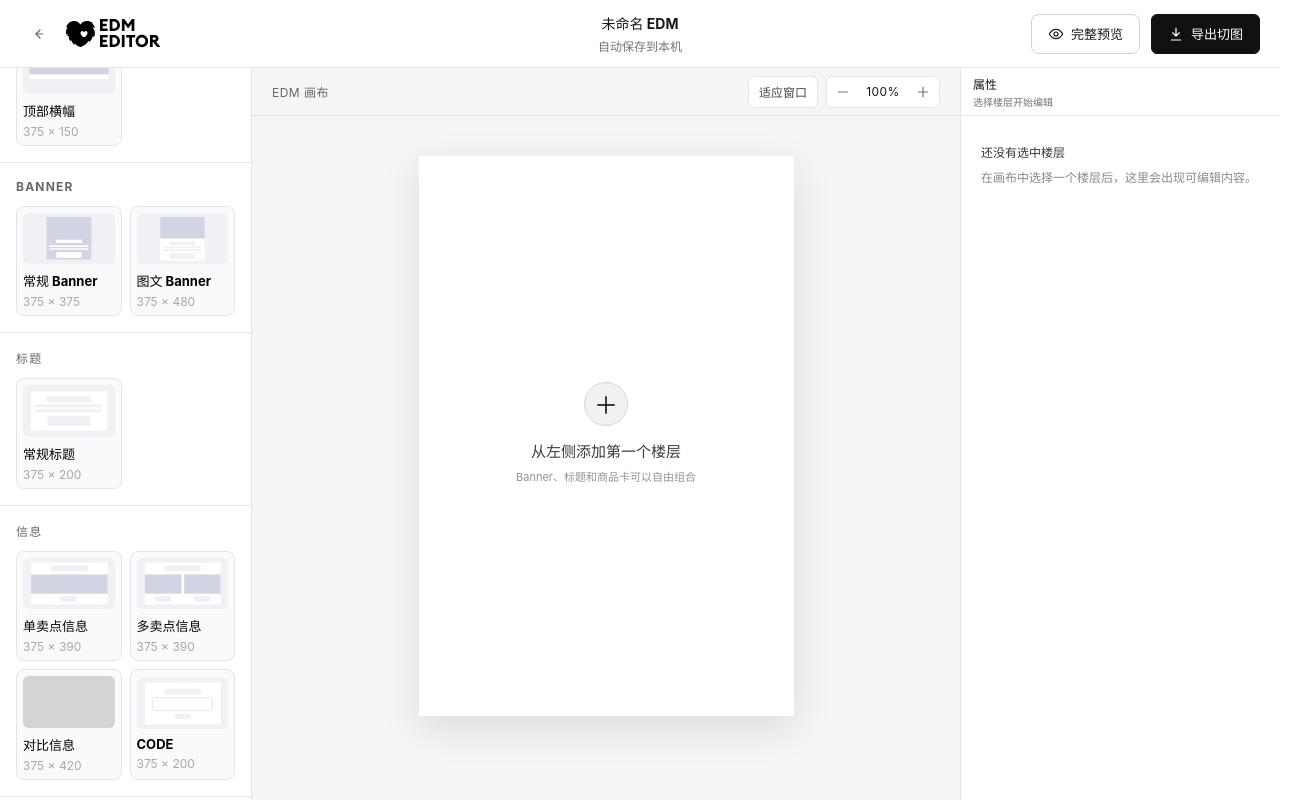
添加、编辑并通过 Delete 删除楼层
(page scrolled)
Check: the picture named "EDM Editor" is shown, box [66, 19, 161, 48]
Click the button with aria-label "添加 常规标题" at (69, 434), box [16, 378, 122, 489]
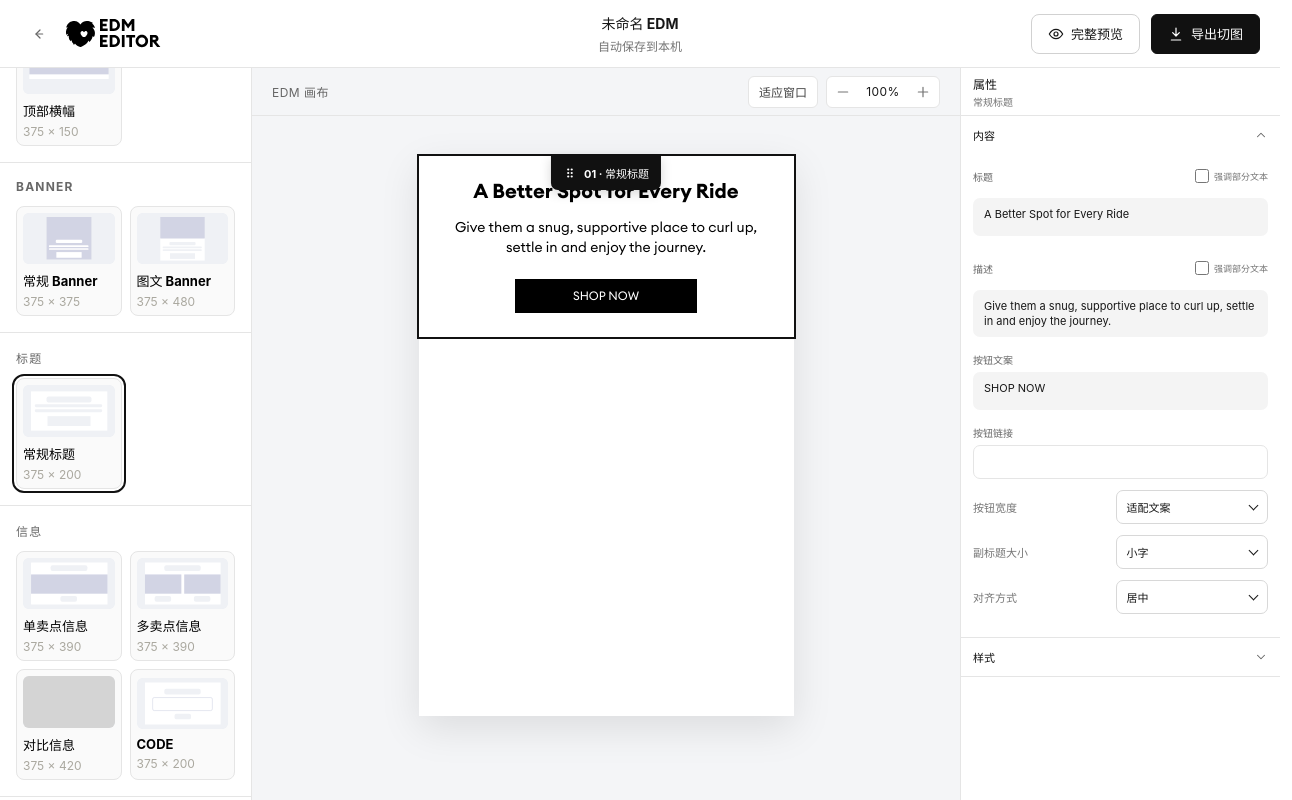
Replace the text in the text box named "标题" with "Summer Picks" at (1120, 217), box [973, 198, 1268, 236]
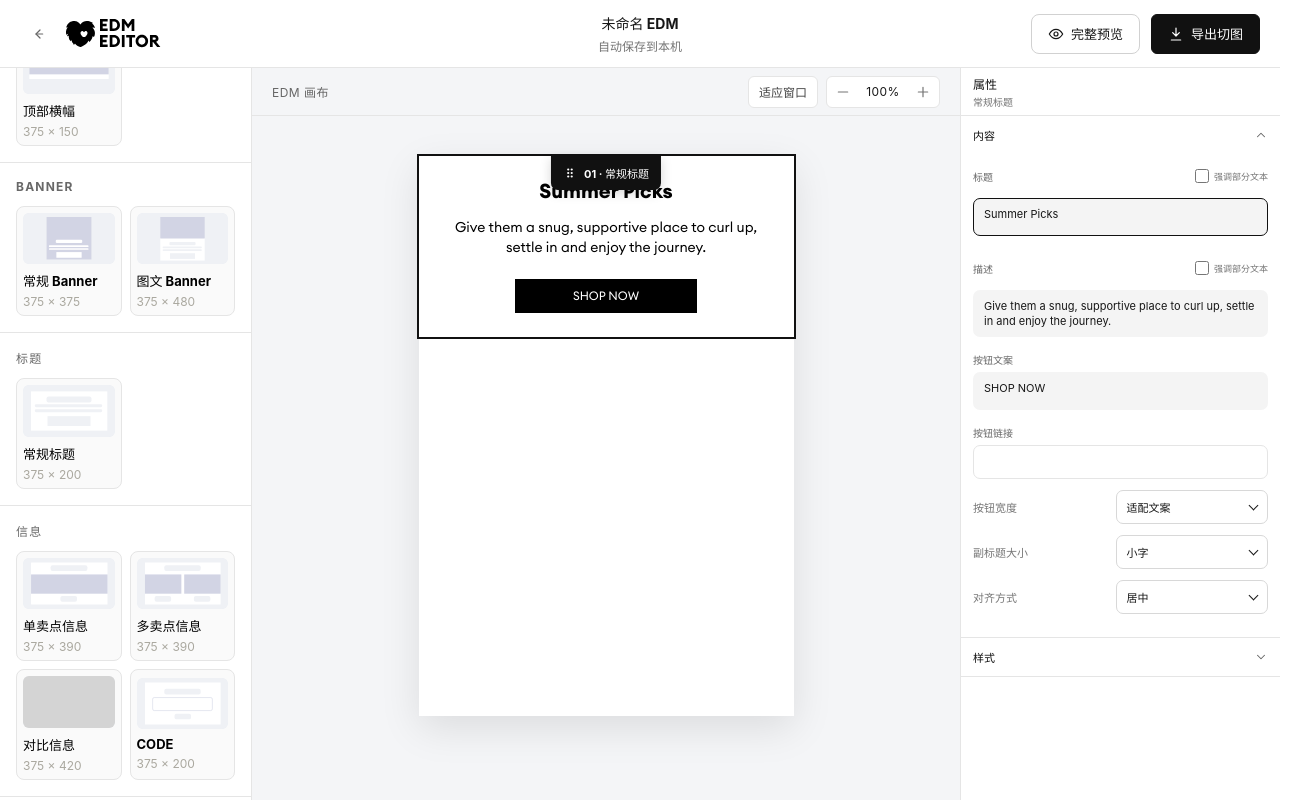
Check: the number of checkboxes labelled "强调部分文本" is 2
Check: the heading "Summer Picks" is shown, box [539, 182, 673, 202]
Click the 1st checkbox labelled "强调部分文本" at (1202, 176), box [1195, 159, 1209, 193]
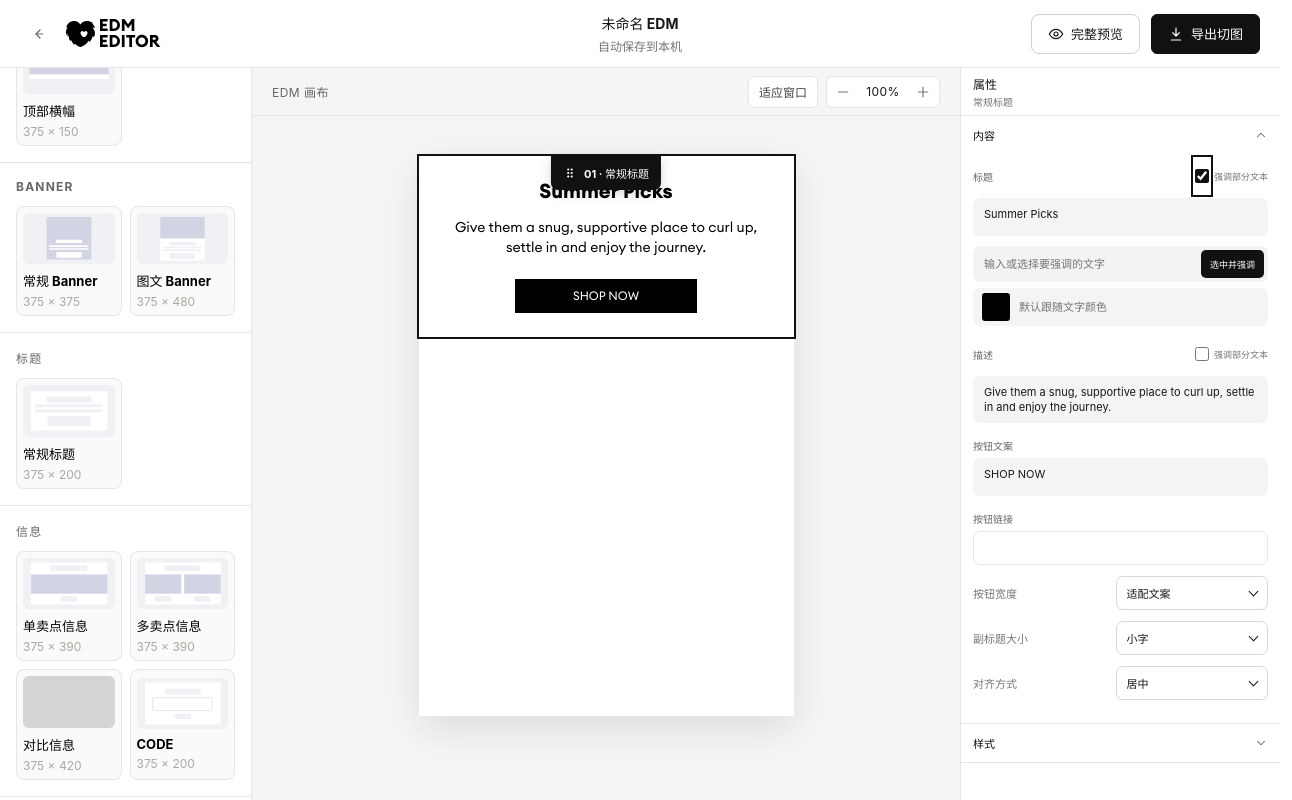
Click the button "选中并强调" at (1232, 264), box [1201, 250, 1264, 278]
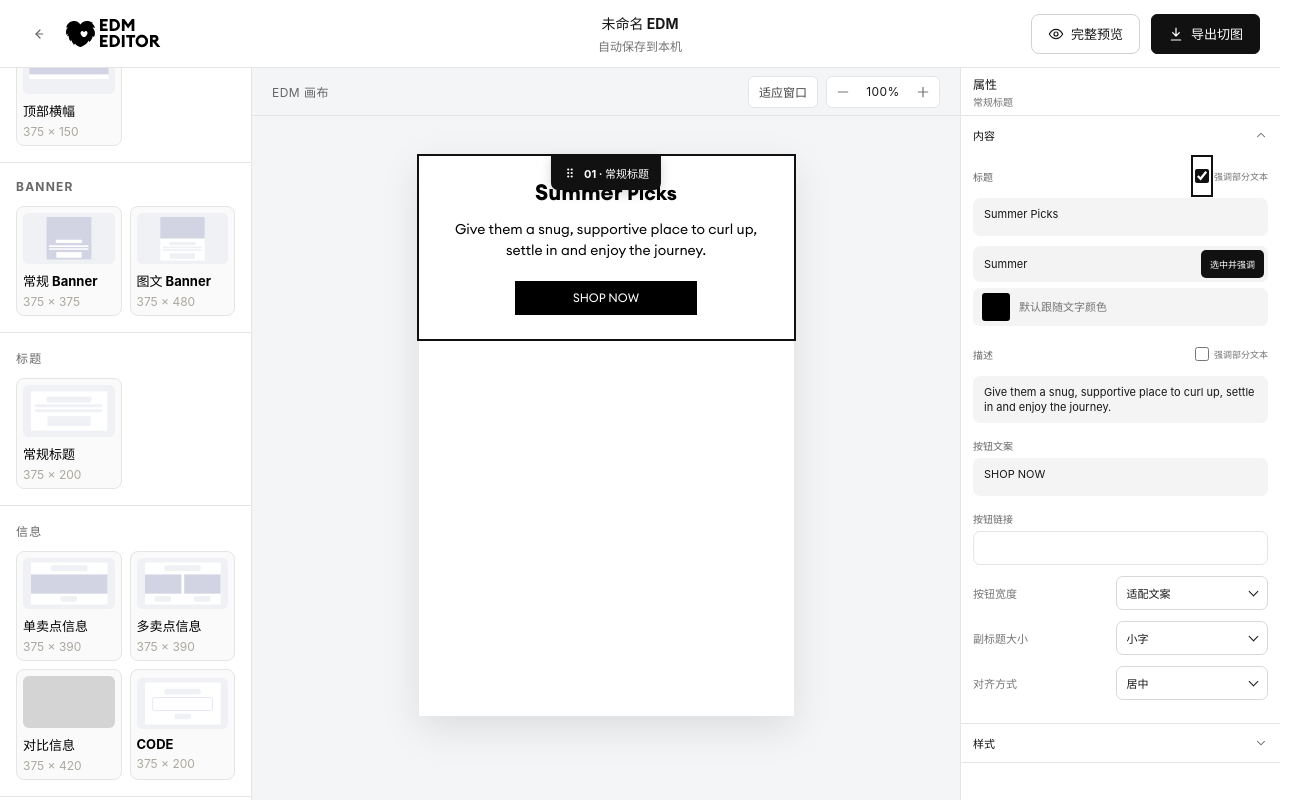
Check: the field named "重点文字" holds "Summer", box [977, 250, 1196, 278]
Press Delete
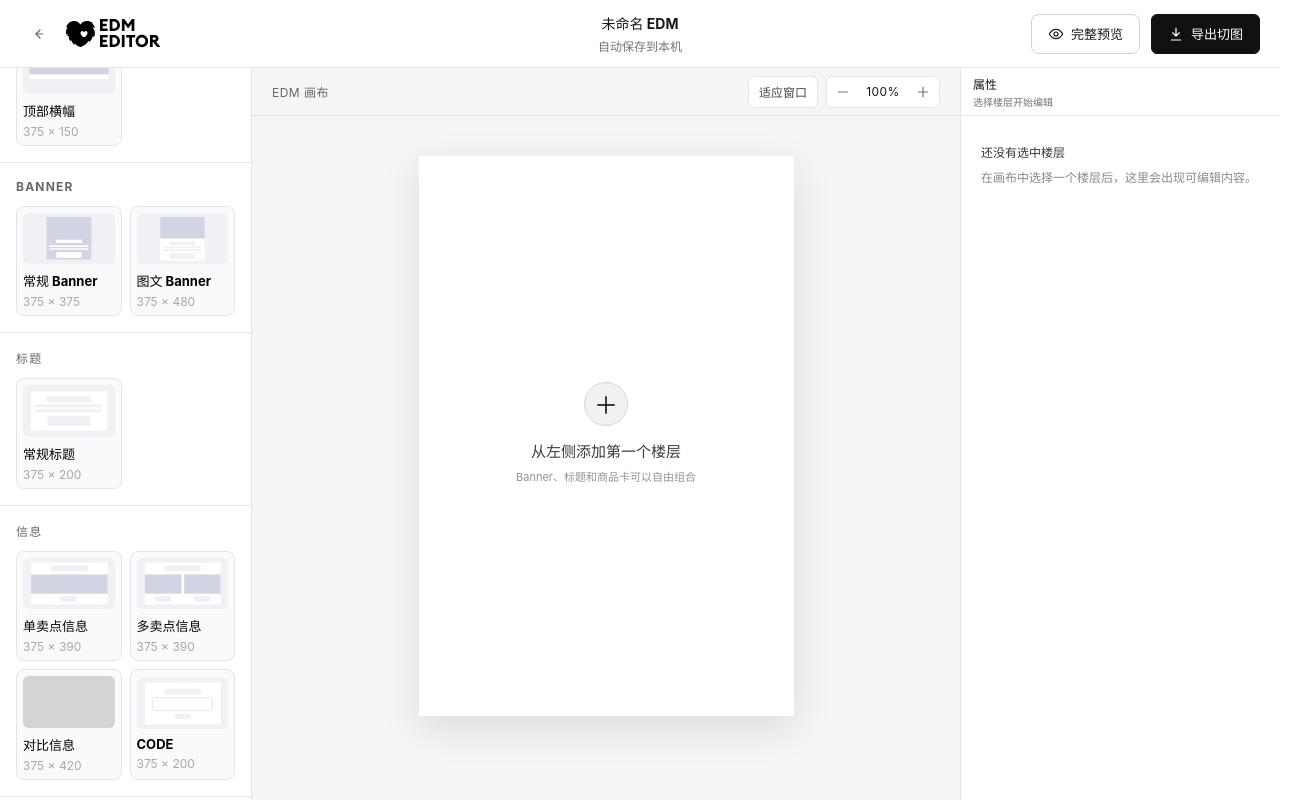
Check: the heading "Summer Picks" is gone
